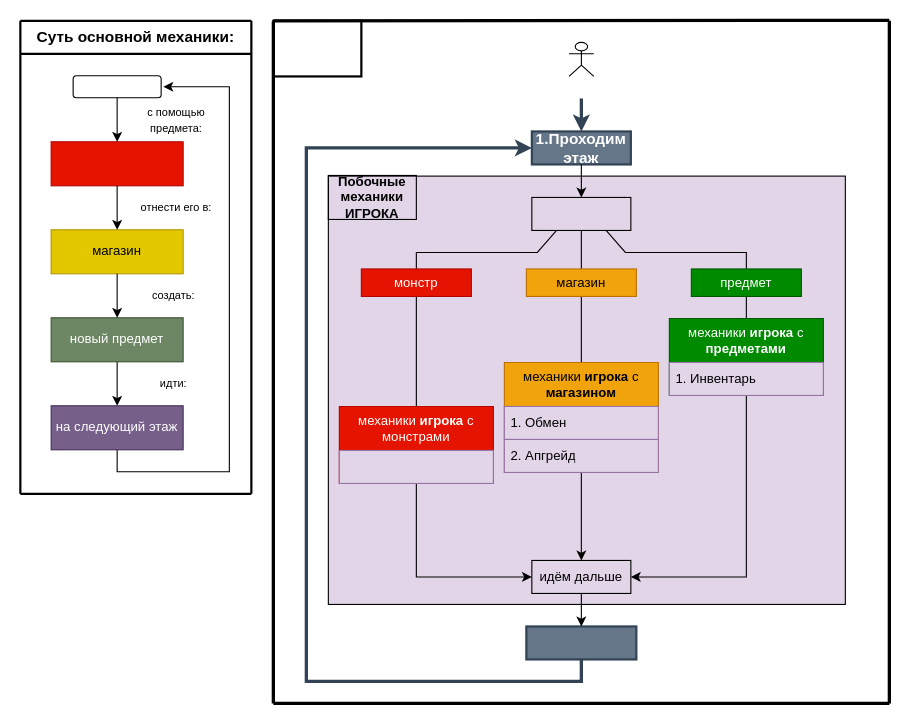
Image size: 911x725. Some labels were removed from this diagram. The centre of each missing label's shape, as x and y in pixels:
1. Механика боя: point (415, 466)
2.Спускаемся: point (581, 642)
Player: point (581, 58)
встречаем:: point (581, 213)
Основная механика игрока: point (317, 48)
поймать монстра: point (116, 163)
старт: point (116, 86)
